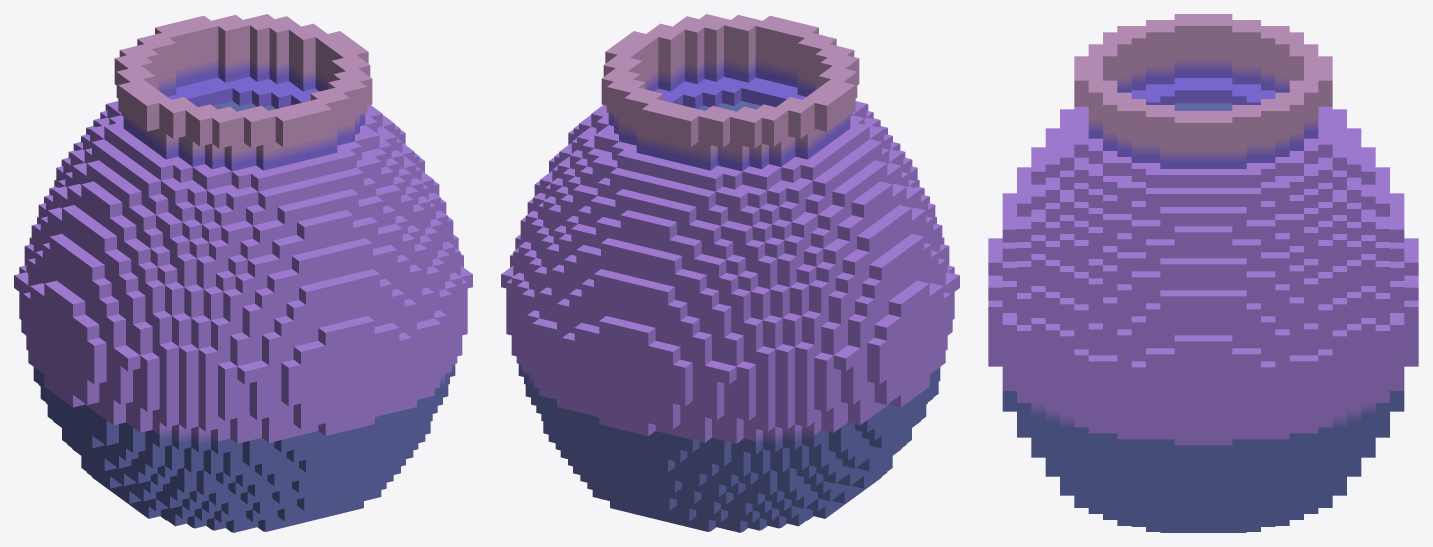
Rendered from vase.fbx.
3 renders of one model, left to right at view 1: azimuth 30°, elevation 25°; view 2: azimuth 150°, elevation 25°; view 3: azimuth 270°, elevation 25°, orthographic.
Parts seen in each view (by area): view 1: vase; view 2: vase; view 3: vase.
Boxes of the visible parts, left/top/right/bottom form: vase: left=14, top=14, right=472, bottom=532; vase: left=501, top=14, right=959, bottom=532; vase: left=988, top=14, right=1418, bottom=532.
Size of the model in its own units: 30 by 33 by 30.
Materials: 1 (1 with a texture image).
